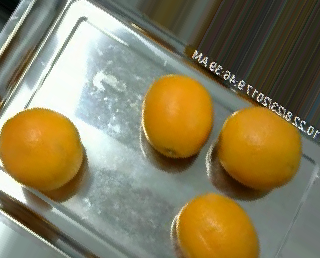Orange: (218, 106, 302, 190), (1, 107, 83, 190), (143, 73, 214, 158), (176, 192, 260, 258)
